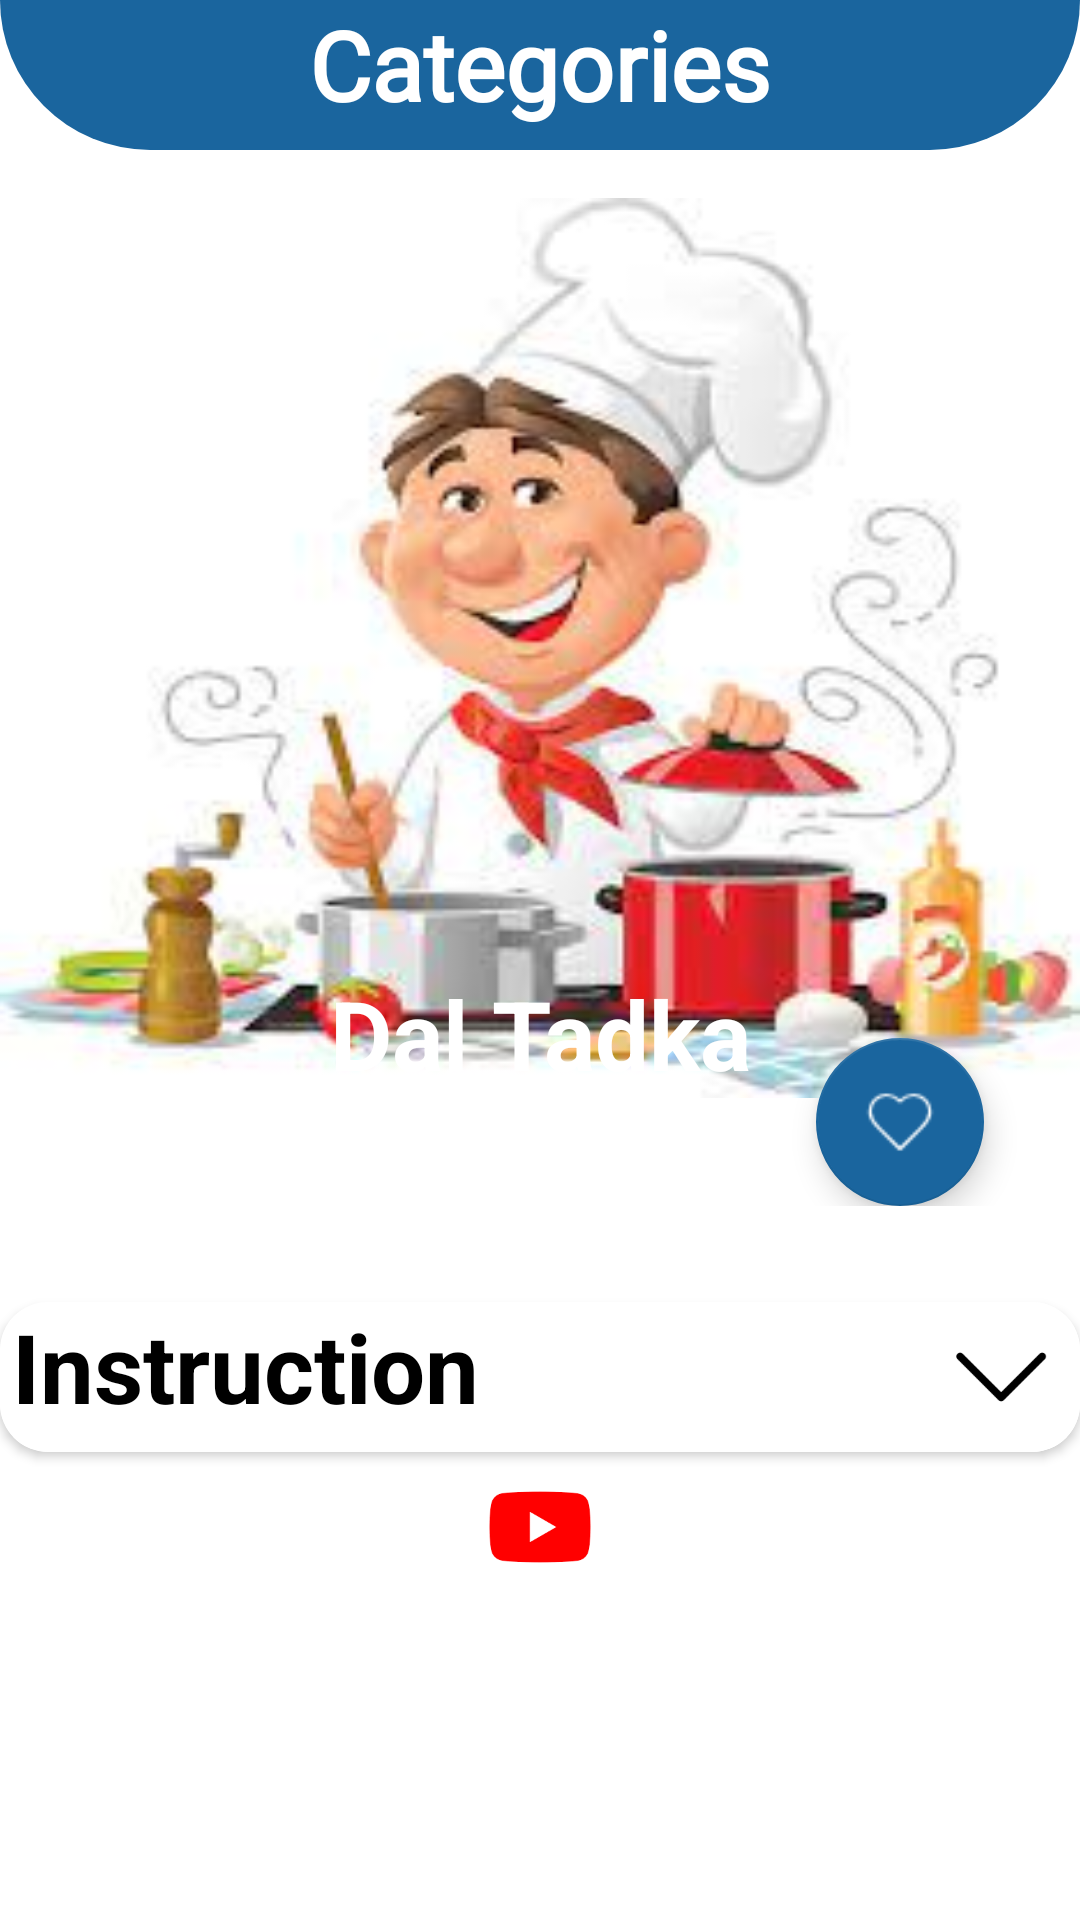

Locate icon controls on the screen. Image size 1080*1920, boxes as (x1, y1, x2, y2).
drop down: (956, 1352, 1047, 1402)
empty heart: (816, 1038, 984, 1206)
